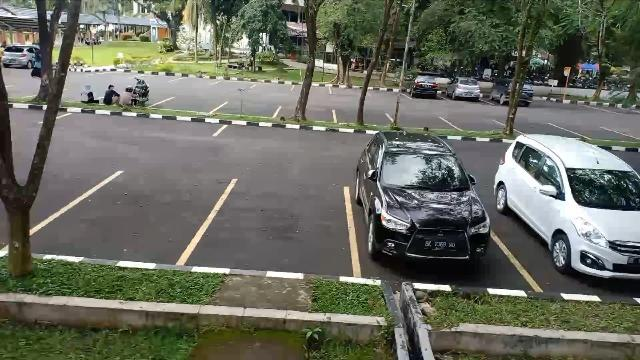empty: (202, 176, 352, 274), (57, 170, 205, 264), (452, 114, 514, 132), (275, 105, 337, 122), (390, 113, 454, 129), (161, 97, 221, 114), (220, 100, 280, 117), (334, 110, 392, 124)
occupied: (350, 176, 500, 286), (498, 176, 640, 292), (445, 80, 485, 102), (408, 76, 444, 100)
